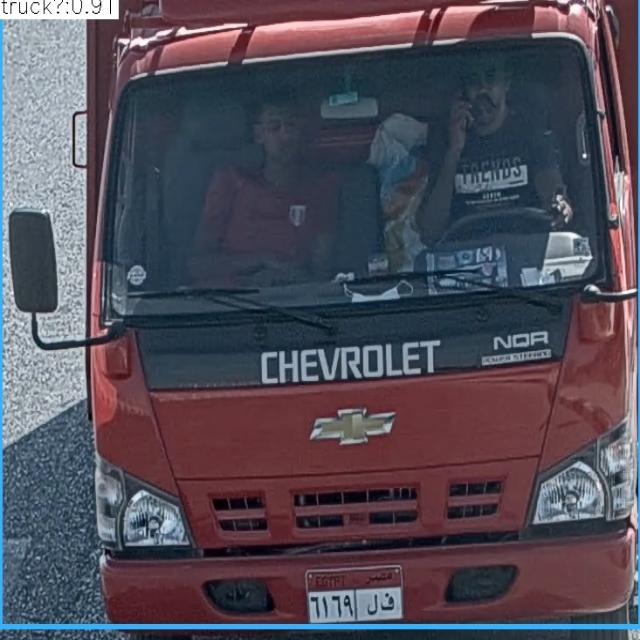windshield: (98, 53, 602, 314)
